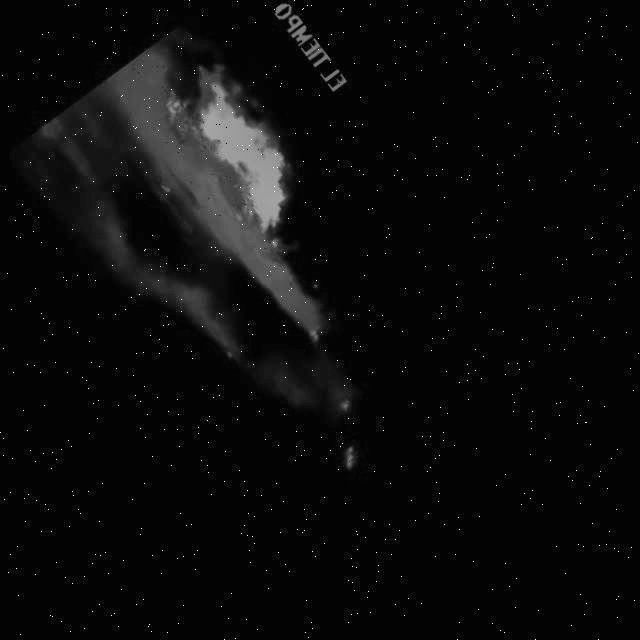Fire: (151, 50, 329, 251), (331, 447, 357, 472), (332, 397, 353, 416), (307, 328, 319, 341), (308, 283, 317, 293), (269, 241, 277, 250)
Smoke: (16, 113, 301, 437), (98, 53, 321, 342), (265, 344, 372, 451)
